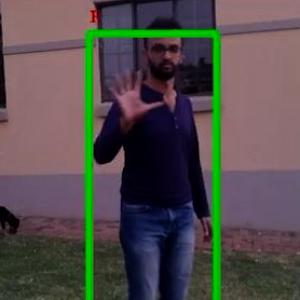follow_hand: (104, 60, 165, 132)
